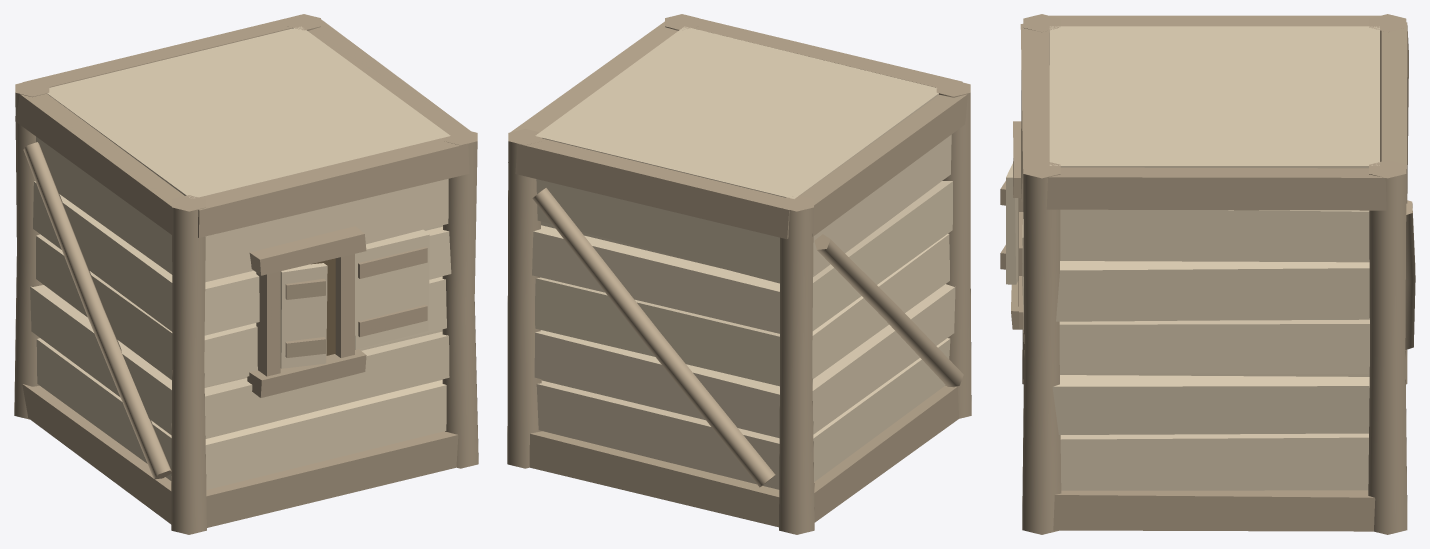
File: building.smallroom.glb
3 views of the same model, side by side, from view 1: azimuth 30°, elevation 25°; view 2: azimuth 150°, elevation 25°; view 3: azimuth 270°, elevation 25° (orthographic). The views are drawn at different scales.
Visible parts, largest first — view 1: Paint, PaintDark, Door; view 2: Paint, PaintDark; view 3: Paint, PaintDark.
Part boxes in pixels (bbox=[...]): Paint: bbox=[30, 26, 451, 489]; PaintDark: bbox=[14, 14, 478, 534]; Door: bbox=[311, 258, 335, 355]; Paint: bbox=[532, 26, 955, 489]; PaintDark: bbox=[507, 14, 971, 534]; Paint: bbox=[1006, 26, 1379, 490]; PaintDark: bbox=[1000, 14, 1415, 534].
Size of the model in its own units: 1.01 by 1 by 1.06.
